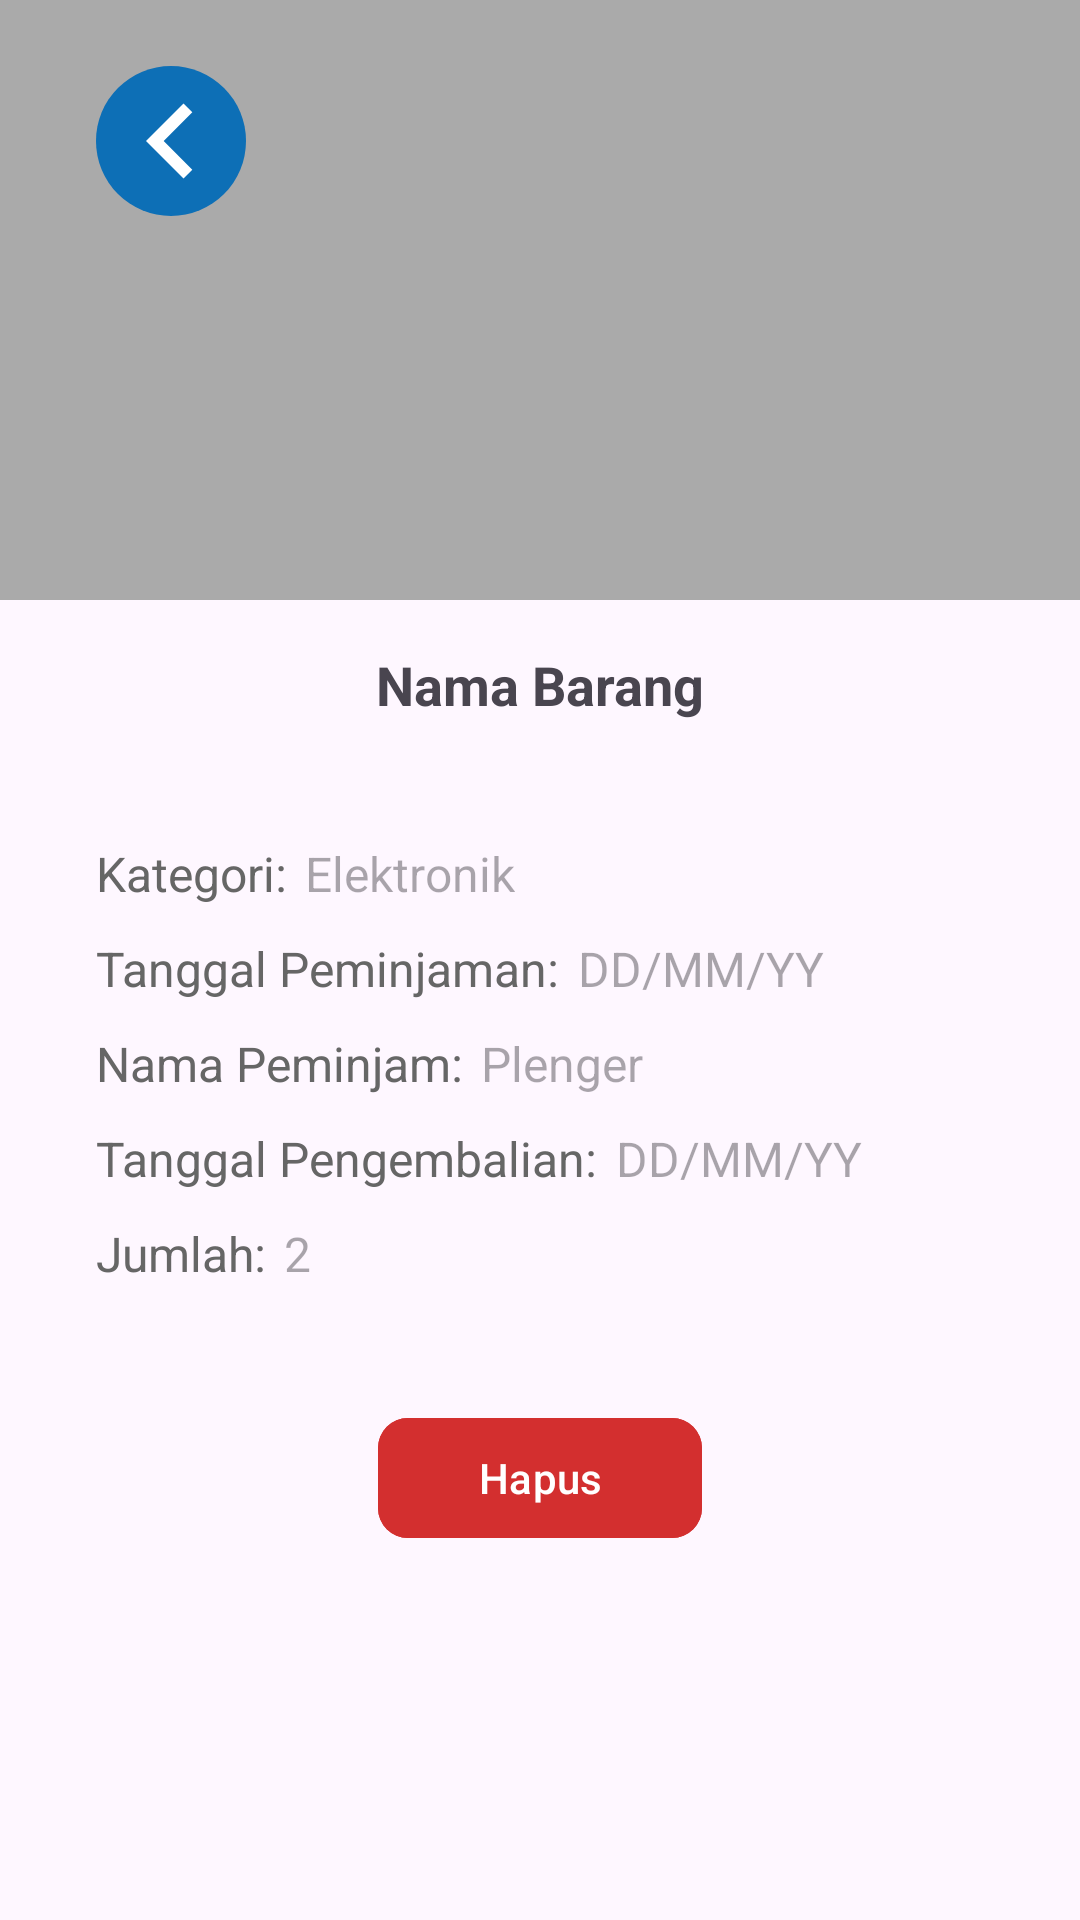

Point at icon controls on the screen. Image size 1080w x 1920h, points as (x,y).
back: (171,141)
